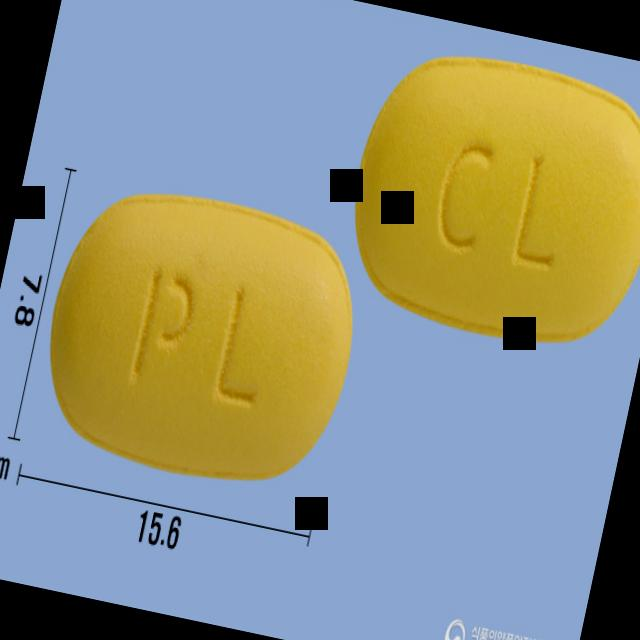Clathro: (20, 163, 380, 510), (330, 32, 640, 366)
